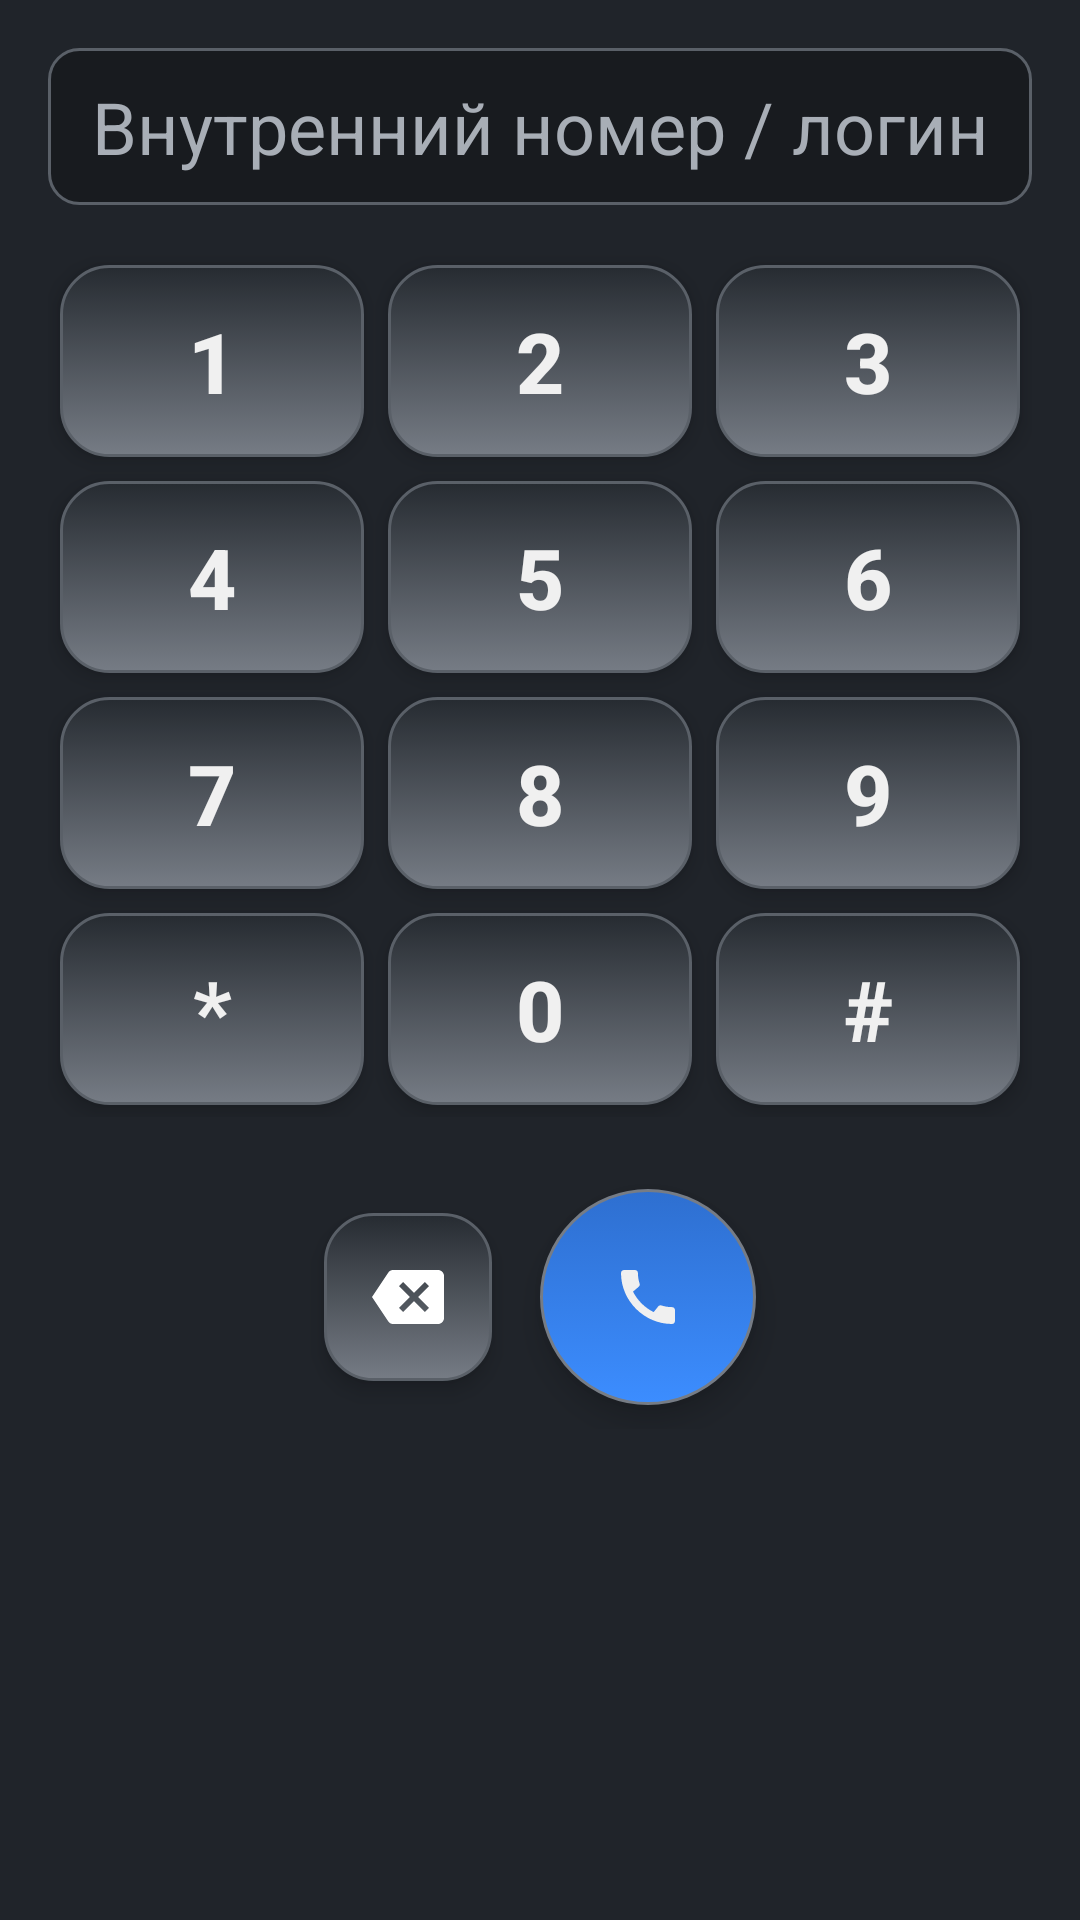

Where icons sit on this 1080 × 1920 app screen, as (x1, y1, x2, y2):
Позвонить: (540, 1189, 756, 1405)
Удалить: (324, 1213, 492, 1381)
